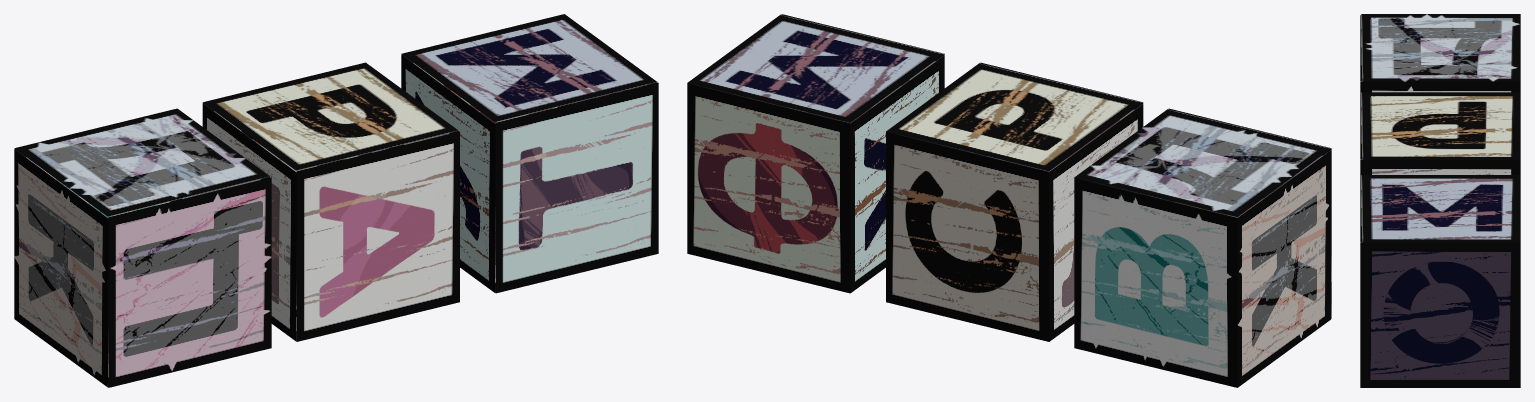
File: kubiki.fbx
3 renders of one model, left to right at view 1: azimuth 30°, elevation 25°; view 2: azimuth 150°, elevation 25°; view 3: azimuth 270°, elevation 25°, orthographic. The views are drawn at different scales.
Visible parts, largest first — view 1: Cube.002, Cube.001, Cube; view 2: Cube.002, Cube.001, Cube; view 3: Cube.001, Cube, Cube.002.
Boxes of the visible parts, x1,y1,x2,y2 form: Cube.002: [14, 108, 271, 387]; Cube.001: [401, 14, 658, 293]; Cube: [202, 62, 459, 341]; Cube.002: [1074, 108, 1331, 387]; Cube.001: [687, 14, 944, 293]; Cube: [886, 62, 1143, 341]; Cube.001: [1360, 175, 1520, 387]; Cube: [1360, 92, 1520, 175]; Cube.002: [1360, 14, 1520, 93].
Bounding box in the file's own units: 675 × 200 × 200.
Materials: 3 (3 with a texture image).
